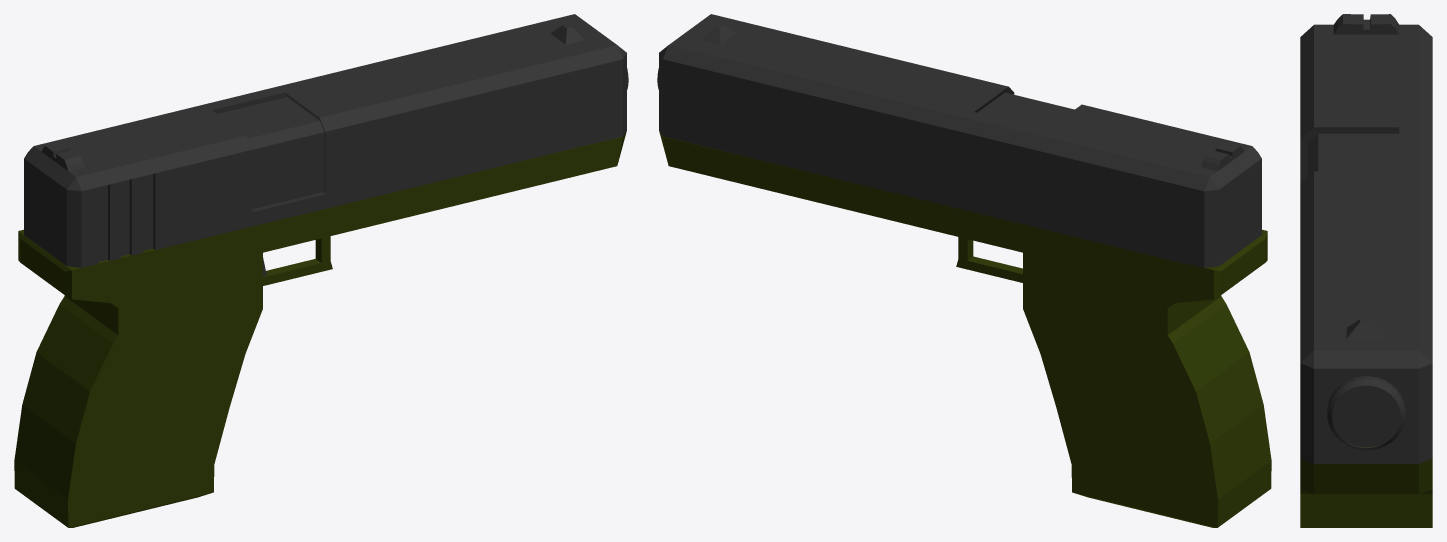
File: GUN(Glock).fbx
3 views of the same model, side by side, from view 1: azimuth 30°, elevation 25°; view 2: azimuth 150°, elevation 25°; view 3: azimuth 270°, elevation 25° (orthographic). The views are drawn at different scales.
Visible parts, largest first — view 1: Cube; view 2: Cube; view 3: Cube.
Boxes of the visible parts, x1,y1,x2,y2 form: Cube: [14, 14, 628, 527]; Cube: [657, 14, 1271, 527]; Cube: [1300, 14, 1432, 527].
Size of the model in its own units: 1234 by 736 by 200.
